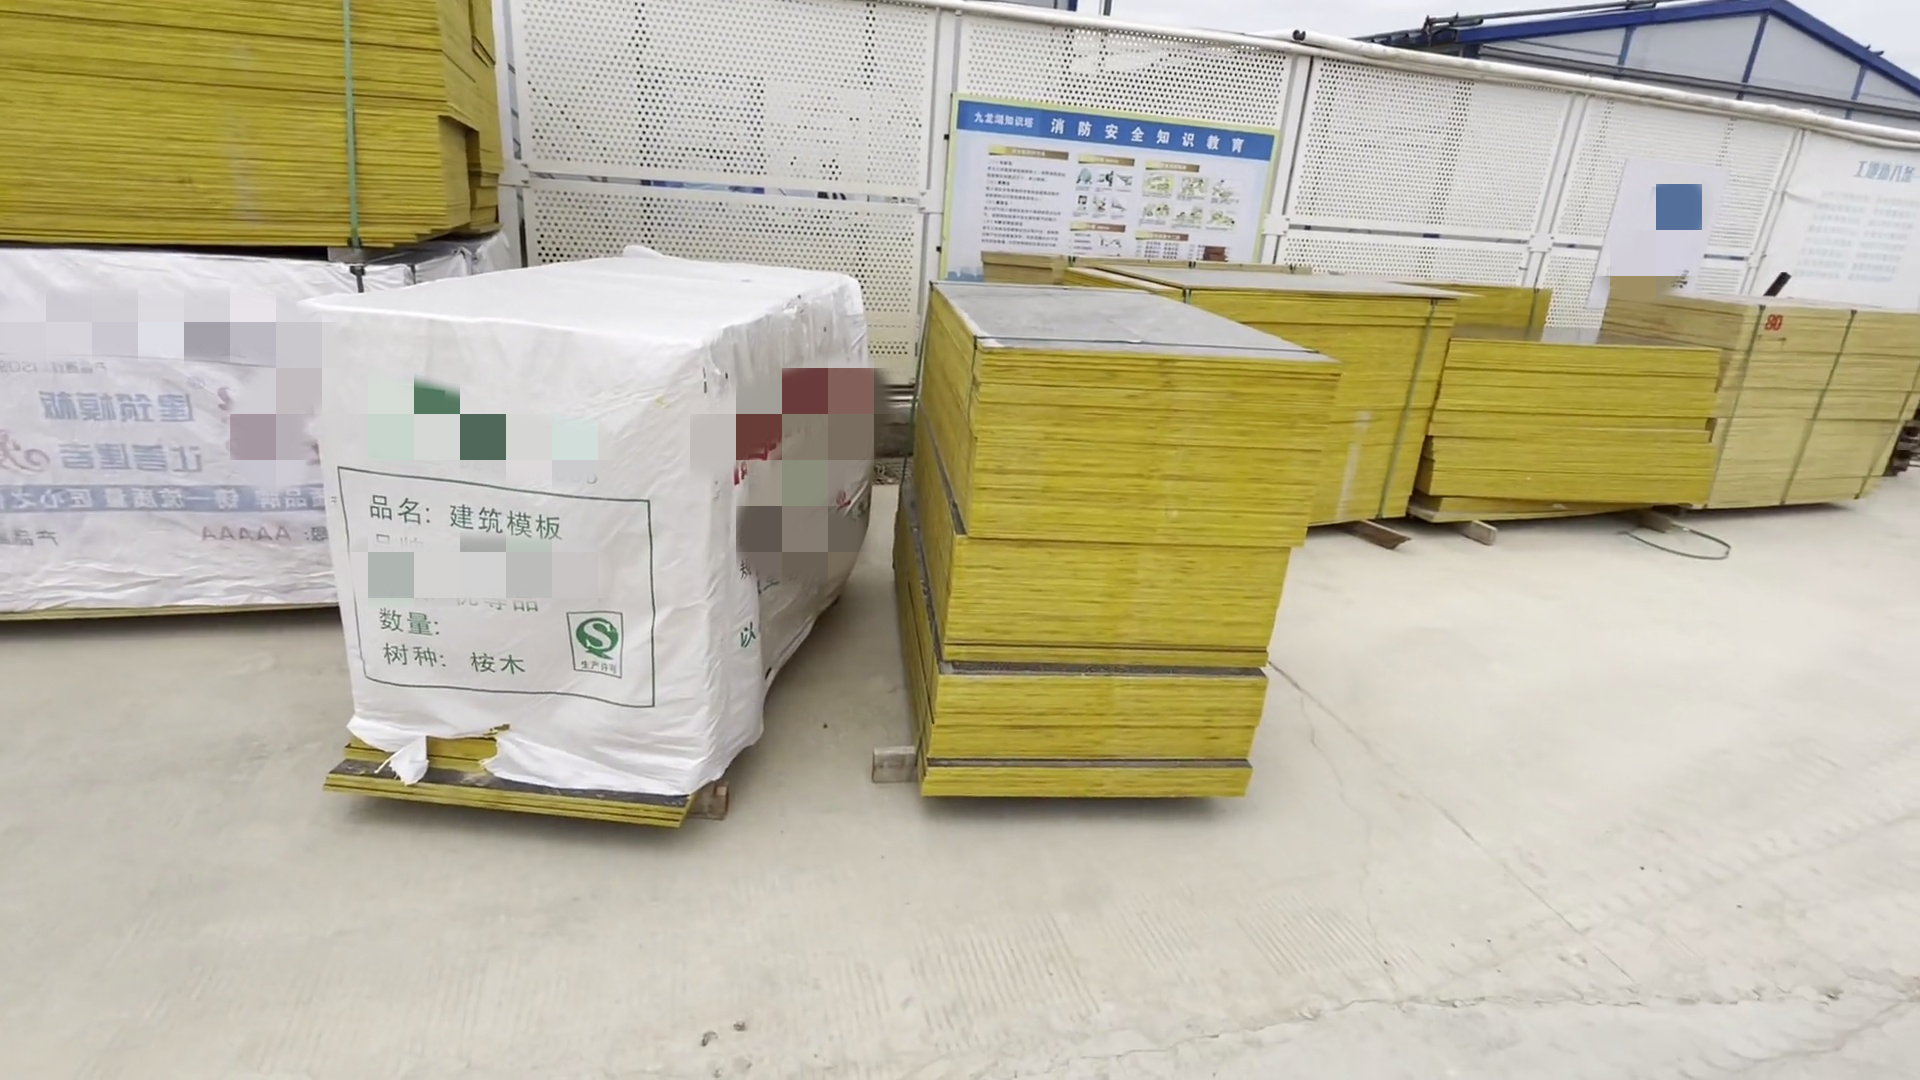board: (915, 266, 1336, 812), (1341, 294, 1920, 567), (1, 1, 484, 257)
